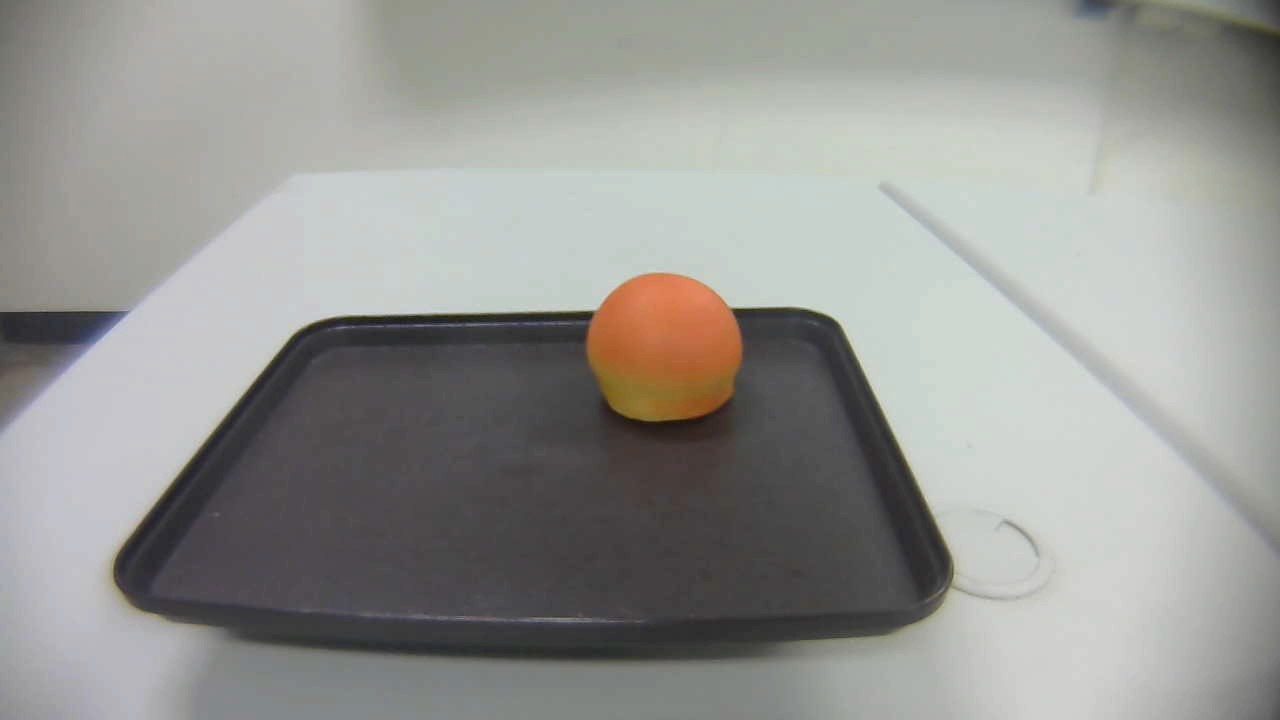bun: (584, 270, 743, 424)
